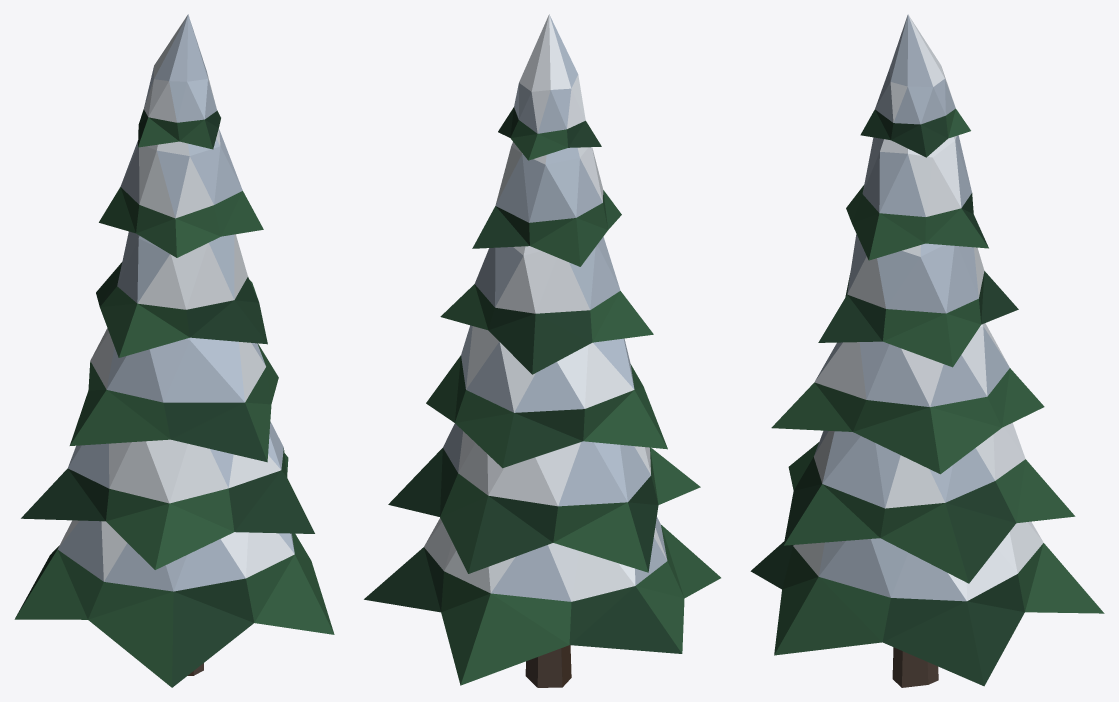
File: tree_pine_snow_b.fbx
3 renders of one model, left to right at view 1: azimuth 30°, elevation 25°; view 2: azimuth 150°, elevation 25°; view 3: azimuth 270°, elevation 25°, orthographic.
Visible parts, largest first — view 1: tree_pine_snow_b; view 2: tree_pine_snow_b; view 3: tree_pine_snow_b.
Part boxes in pixels (x1,y1,x2,y2): tree_pine_snow_b: (14, 14, 334, 687); tree_pine_snow_b: (364, 14, 720, 687); tree_pine_snow_b: (750, 14, 1104, 687).
Bounding box in the file's own units: 4.72 × 9.88 × 4.75.
